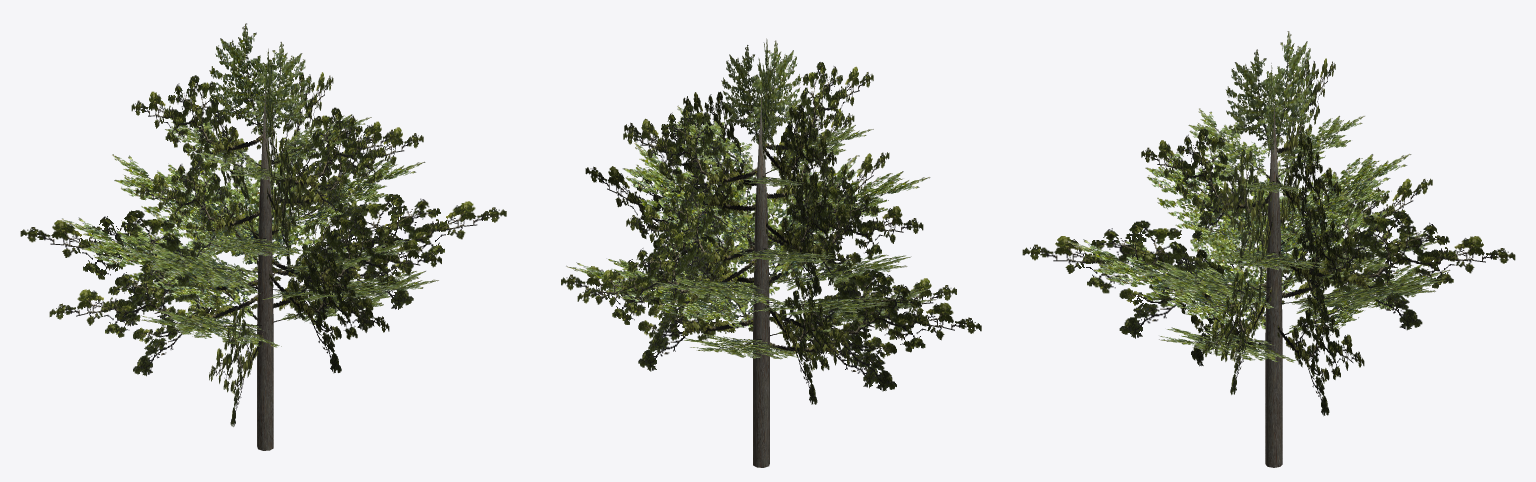
File: tree.glb
3 renders of one model, left to right at view 1: azimuth 30°, elevation 25°; view 2: azimuth 150°, elevation 25°; view 3: azimuth 270°, elevation 25°, orthographic. The views are drawn at different scales.
Parts seen in each view (by area): view 1: Cube.019, Cube.020, Cube.012, Cylinder.001, Cube.021, Cube.010, Cube.014, Cube.017, Cube.002, Cube.047, Cube.027, Cube.011 (+22 smaller); view 2: Cube.019, Cube.006, Cylinder.001, Cube.015, Cube.009, Cube.018, Cube.008, Cube.010, Cube.017, Cube.013, Cube.032, Cube.003 (+22 smaller); view 3: Cube.006, Cube.002, Cylinder.001, Cube.016, Cube.026, Cube.031, Cube.033, Cube.008, Cube.049, Cube.047, Cube.018, Cube.020 (+17 smaller).
Part boxes in pixels (left/top/right/bottom): Cube.019: left=49, top=258, right=258, bottom=376; Cube.020: left=272, top=194, right=506, bottom=309; Cube.012: left=271, top=213, right=441, bottom=330; Cylinder.001: left=257, top=89, right=273, bottom=450; Cube.021: left=270, top=107, right=398, bottom=219; Cube.010: left=20, top=210, right=257, bottom=326; Cube.014: left=131, top=75, right=262, bottom=191; Cube.017: left=136, top=154, right=259, bottom=270; Cube.002: left=269, top=250, right=389, bottom=373; Cube.047: left=209, top=23, right=286, bottom=135; Cube.027: left=61, top=217, right=258, bottom=309; Cube.011: left=271, top=120, right=423, bottom=233; Cube.019: left=768, top=270, right=981, bottom=391; Cube.006: left=577, top=229, right=756, bottom=352; Cylinder.001: left=753, top=91, right=769, bottom=467; Cube.015: left=623, top=104, right=757, bottom=223; Cube.009: left=767, top=181, right=923, bottom=297; Cube.018: left=626, top=185, right=754, bottom=299; Cube.008: left=561, top=252, right=753, bottom=371; Cube.010: left=764, top=276, right=852, bottom=404; Cube.017: left=766, top=176, right=859, bottom=296; Cube.013: left=764, top=62, right=873, bottom=180; Cube.032: left=622, top=142, right=754, bottom=244; Cube.003: left=770, top=269, right=956, bottom=388; Cube.006: left=1280, top=211, right=1515, bottom=330; Cube.002: left=1022, top=220, right=1266, bottom=338; Cylinder.001: left=1265, top=100, right=1282, bottom=467; Cube.016: left=1141, top=128, right=1268, bottom=245; Cube.026: left=1067, top=239, right=1266, bottom=324; Cube.031: left=1279, top=153, right=1411, bottom=245; Cube.033: left=1145, top=148, right=1266, bottom=248; Cube.008: left=1277, top=294, right=1364, bottom=415; Cube.049: left=1225, top=49, right=1292, bottom=152; Cube.047: left=1258, top=31, right=1315, bottom=148; Cube.018: left=1278, top=209, right=1364, bottom=324; Cube.020: left=1203, top=268, right=1271, bottom=394.
Size of the model in its own units: 22.18 by 20.96 by 22.2.
Materials: 3 (3 with a texture image).
